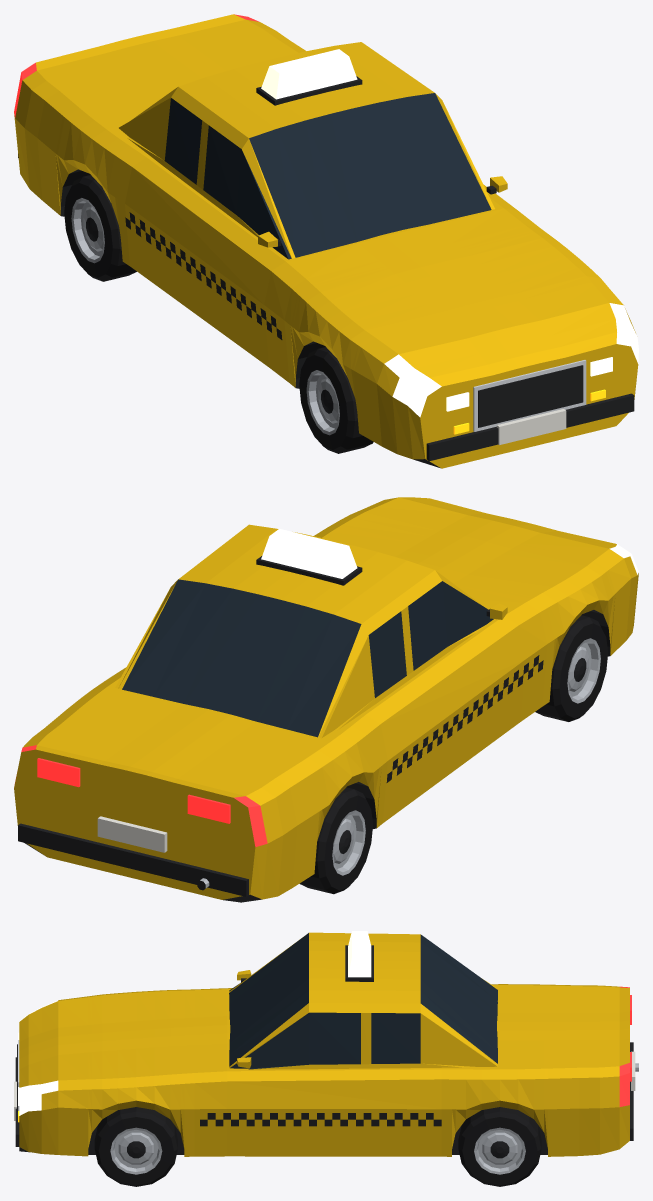
Rendered from taxi-01.glb.
3 views of the same model, one above another, from view 1: azimuth 30°, elevation 25°; view 2: azimuth 150°, elevation 25°; view 3: azimuth 270°, elevation 25° (orthographic). The views are drawn at different scales.
Parts seen in each view (by area): view 1: Body, Wheel_FR, Wheel_RR; view 2: Body, Wheel_RR, Wheel_FR; view 3: Body, Wheel_FL, Wheel_RL.
Boxes of the visible parts, bbox=[...] form: Body: bbox=[14, 14, 638, 468]; Wheel_FR: bbox=[299, 347, 373, 453]; Wheel_RR: bbox=[64, 175, 136, 281]; Body: bbox=[14, 497, 638, 902]; Wheel_RR: bbox=[299, 787, 372, 894]; Wheel_FR: bbox=[535, 615, 607, 721]; Body: bbox=[14, 931, 638, 1156]; Wheel_FL: bbox=[94, 1107, 177, 1186]; Wheel_RL: bbox=[458, 1107, 541, 1186].
Bounding box in the file's own units: 1.84 × 1.66 × 4.81.
